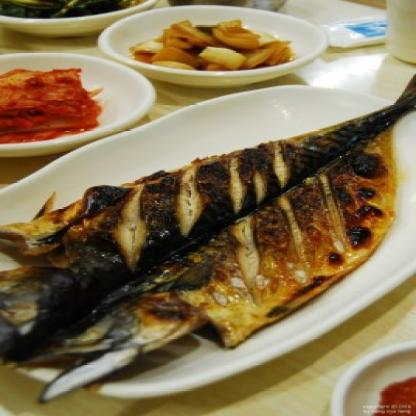Peixe: (0, 65, 416, 373)
